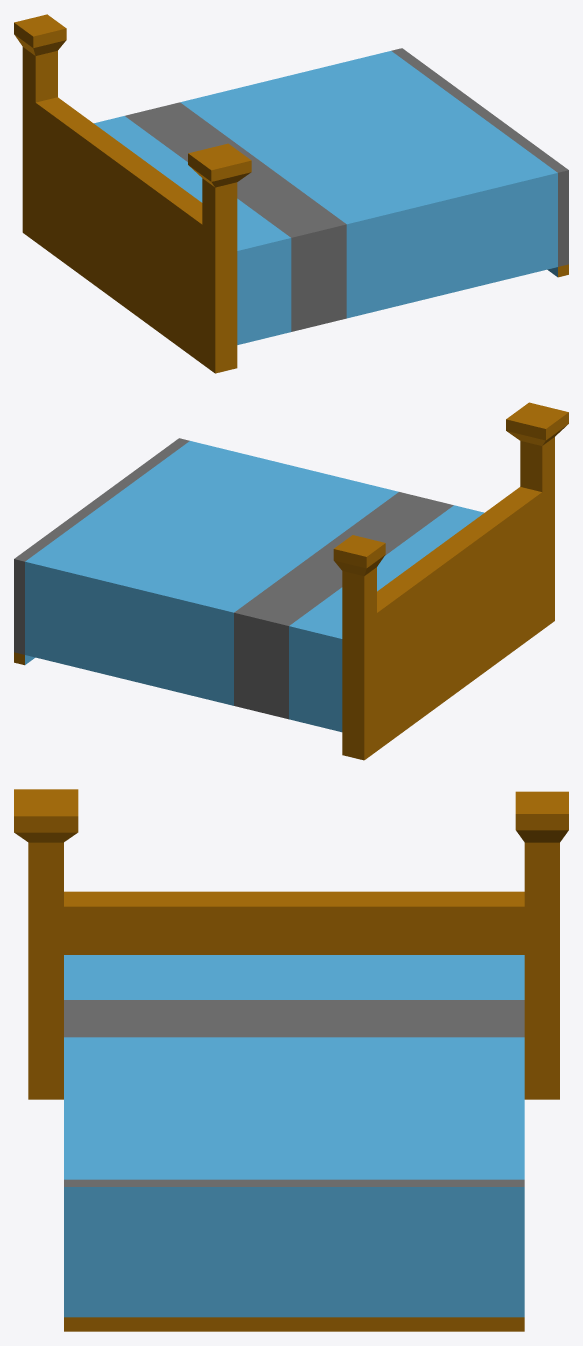
The model's file is apartmentBed.glb.
3 views of the same model, one above another, from view 1: azimuth 30°, elevation 25°; view 2: azimuth 150°, elevation 25°; view 3: azimuth 270°, elevation 25° (orthographic). The views are drawn at different scales.
Parts seen in each view (by area): view 1: ApartmentBed; view 2: ApartmentBed; view 3: ApartmentBed.
Boxes of the visible parts, x1=… form: ApartmentBed: x1=14, y1=14, x2=568, y2=373; ApartmentBed: x1=14, y1=402, x2=568, y2=760; ApartmentBed: x1=14, y1=789, x2=568, y2=1331.
Size of what is drawn, in the model's own units: 3.38 by 1.8 by 3.13.
